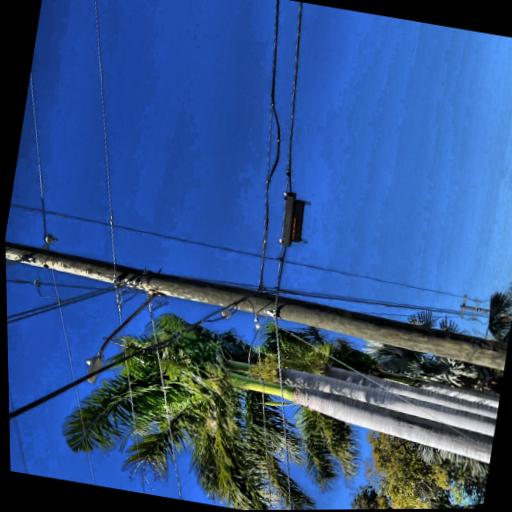pole: (1, 26, 163, 484)
street light: (4, 178, 99, 267)
